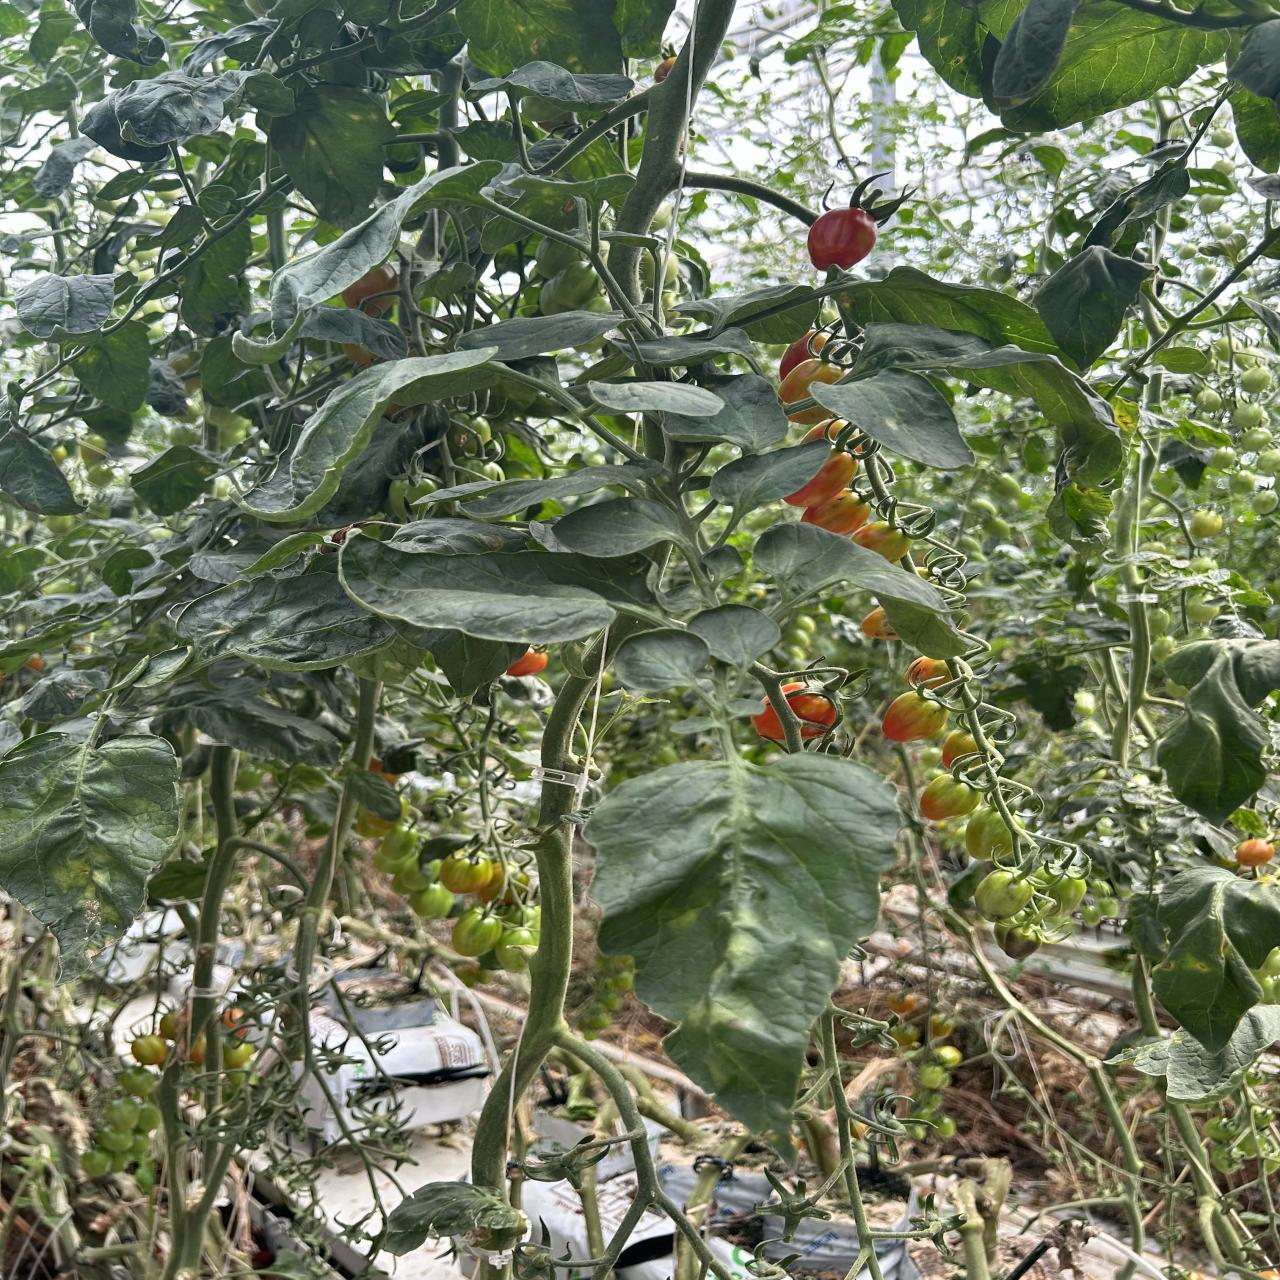Hoja rugoso: (584, 755, 900, 1132), (892, 0, 1235, 132), (244, 346, 499, 523), (0, 731, 181, 980), (341, 538, 619, 642), (271, 181, 430, 333), (15, 273, 117, 340)
Pedunculo: (471, 633, 604, 1187), (615, 0, 735, 234), (608, 240, 652, 302), (642, 417, 665, 461), (649, 258, 663, 320), (634, 360, 670, 380)
Tomate: (974, 867, 1033, 921), (452, 907, 503, 956), (965, 808, 1010, 860), (438, 851, 493, 894)
Tomate Rugoso: (784, 444, 858, 522), (808, 207, 877, 271), (881, 692, 948, 742), (781, 681, 837, 741), (802, 489, 871, 536), (778, 360, 844, 404), (920, 775, 982, 822), (852, 520, 911, 564), (779, 328, 828, 380), (750, 696, 785, 743), (802, 417, 847, 443), (802, 406, 818, 422)
